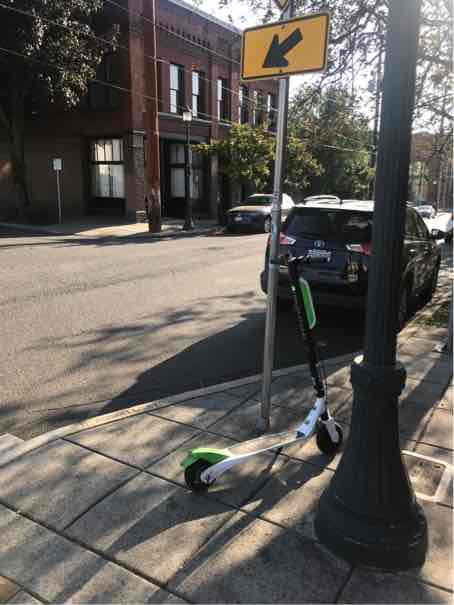scooter: (169, 232, 357, 499)
